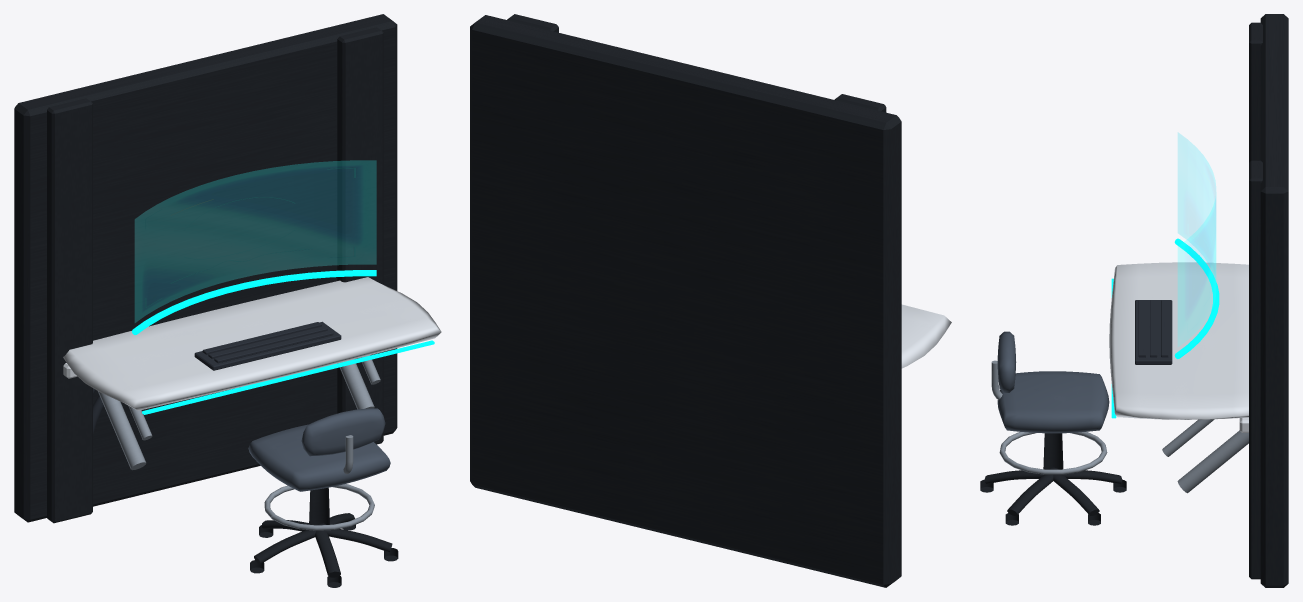
File: desk_r1_01.glb
The picture shows the model from 3 angles, left to right: view 1: azimuth 30°, elevation 25°; view 2: azimuth 150°, elevation 25°; view 3: azimuth 270°, elevation 25°; orthographic projection. The views are drawn at different scales.
Parts seen in each view (by area): view 1: Desk01_TitaniumWallSpine, Desk01_PanoramicHoloScreen, Desk01_AeroWhiteCantileverTop, Desk01_FlightStool_SeatCushion, Desk01_FlightStool_SwivelBase, Desk01_KeyboardDeck, Desk01_HydraulicStruts, Desk01_FlightStool_LumbarPad, Desk01_HoloEmitterBar, Desk01_UnderglowStrip, Desk01_FlightStool_FootRing; view 2: Desk01_TitaniumWallSpine, Desk01_AeroWhiteCantileverTop; view 3: Desk01_TitaniumWallSpine, Desk01_AeroWhiteCantileverTop, Desk01_PanoramicHoloScreen, Desk01_FlightStool_SeatCushion, Desk01_FlightStool_SwivelBase, Desk01_KeyboardDeck, Desk01_HydraulicStruts, Desk01_FlightStool_FootRing, Desk01_FlightStool_LumbarPad, Desk01_HoloEmitterBar.
Boxes of the visible parts, x1,y1,x2,y2 form: Desk01_TitaniumWallSpine: (14, 14, 397, 523); Desk01_PanoramicHoloScreen: (135, 160, 376, 322); Desk01_AeroWhiteCantileverTop: (63, 277, 441, 410); Desk01_FlightStool_SeatCushion: (248, 424, 390, 491); Desk01_FlightStool_SwivelBase: (250, 487, 398, 587); Desk01_KeyboardDeck: (194, 321, 341, 370); Desk01_HydraulicStruts: (98, 355, 380, 470); Desk01_FlightStool_LumbarPad: (301, 408, 385, 456); Desk01_HoloEmitterBar: (132, 270, 376, 334); Desk01_UnderglowStrip: (142, 340, 434, 414); Desk01_FlightStool_FootRing: (264, 484, 374, 530); Desk01_TitaniumWallSpine: (470, 14, 901, 587); Desk01_AeroWhiteCantileverTop: (901, 304, 951, 368); Desk01_TitaniumWallSpine: (1249, 14, 1288, 587); Desk01_AeroWhiteCantileverTop: (1109, 262, 1248, 432); Desk01_PanoramicHoloScreen: (1178, 133, 1215, 346); Desk01_FlightStool_SeatCushion: (997, 371, 1109, 433); Desk01_FlightStool_SwivelBase: (980, 433, 1126, 525); Desk01_KeyboardDeck: (1135, 300, 1172, 364); Desk01_HydraulicStruts: (1162, 419, 1248, 493); Desk01_FlightStool_FootRing: (999, 431, 1107, 474); Desk01_FlightStool_LumbarPad: (997, 331, 1016, 392); Desk01_HoloEmitterBar: (1174, 238, 1219, 358).
Bounding box in the file's own units: 1.8 × 1.9 × 1.32.
Materials: 7 (7 with a texture image).
